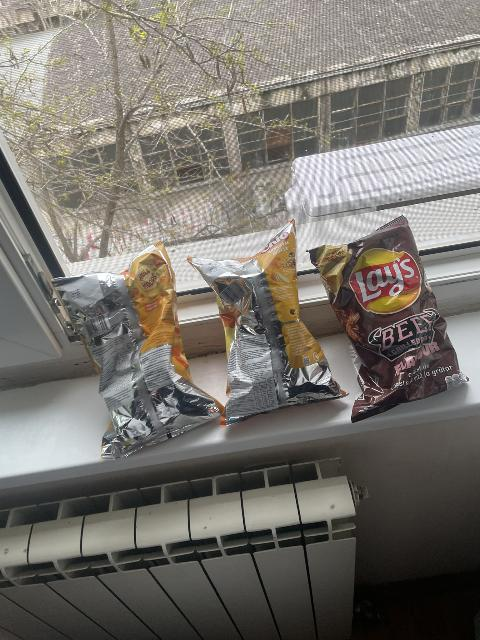Chio Cascaval 125g: (192, 223, 342, 424)
Chio Hula Hoops Cheese 70g: (43, 240, 224, 459)
Lays Beef Grilled Ribs 125g: (307, 215, 468, 424)
